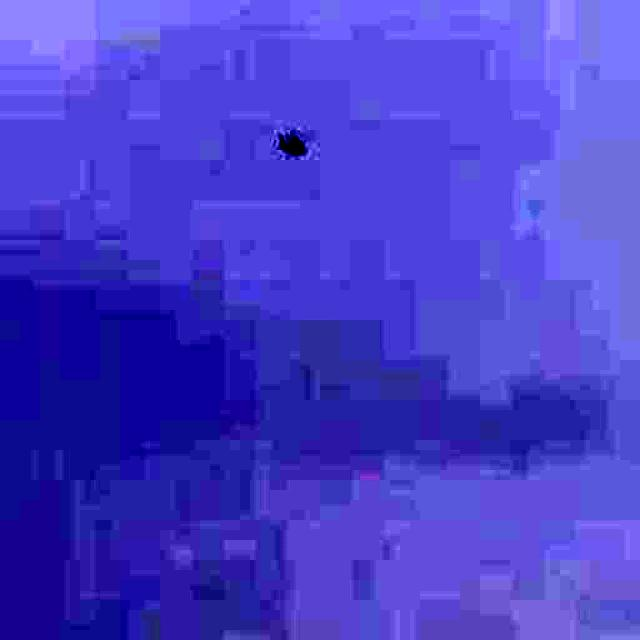drone: (269, 118, 315, 170)
